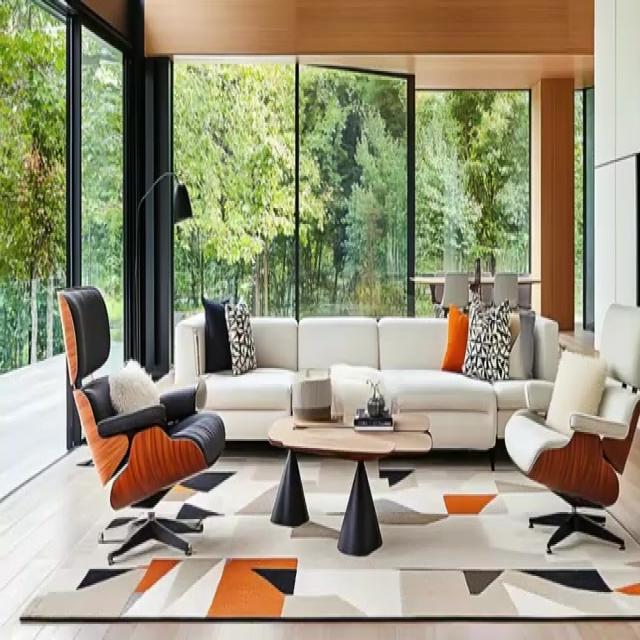obstacle: (173, 308, 560, 468), (56, 284, 225, 564), (504, 300, 639, 553), (267, 410, 432, 554)
